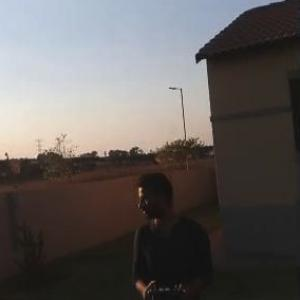follow: (118, 166, 212, 299)
